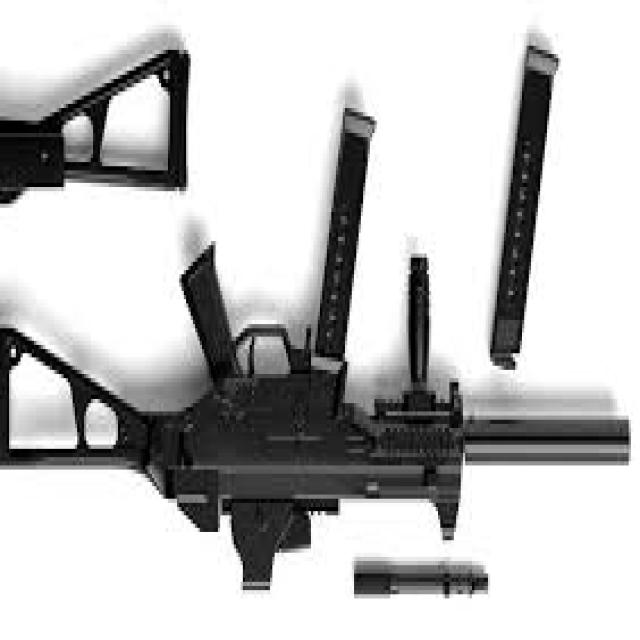Gun: (0, 108, 486, 619)
